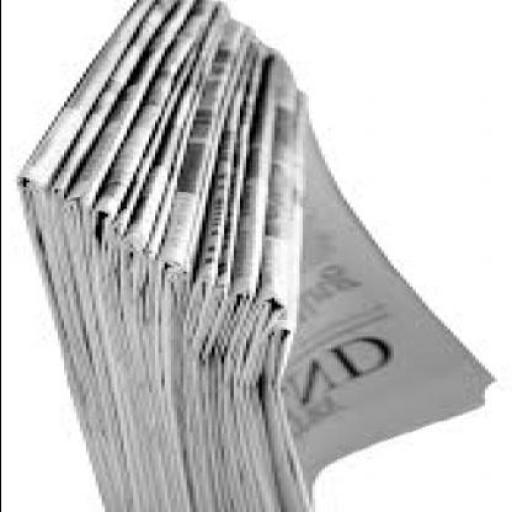paper: (242, 50, 496, 511), (26, 7, 139, 511), (163, 2, 230, 511), (185, 24, 246, 510), (224, 46, 283, 510), (141, 2, 185, 511)
